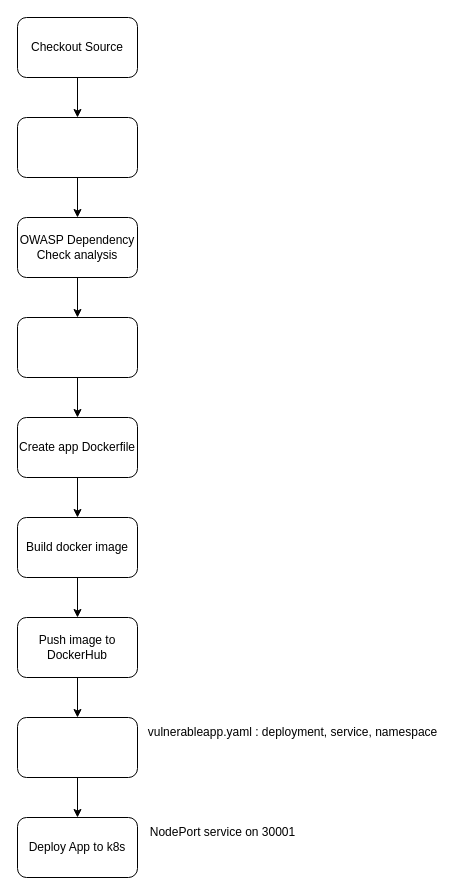
This 465x895 diagram has some shape labels left out. The shapes that lost their labels are listed below. From the top down, each one's centre as x and y in pixels, then its label:
At point (77, 147): "SonarQube analysis".
At point (77, 347): "Build App with gradle".
At point (77, 747): "Create app .yaml file for k8s".
